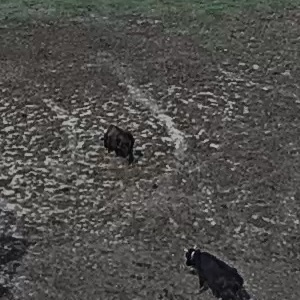cow: (181, 243, 253, 300), (89, 116, 149, 174)
